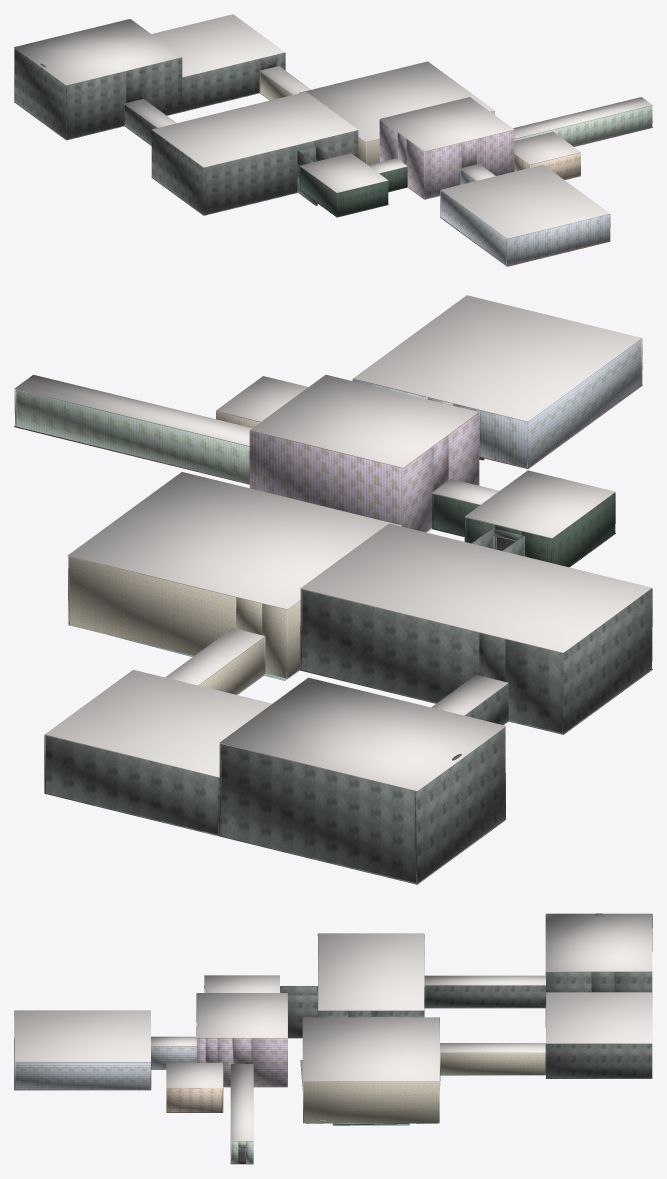
Rendered from Institut_Maquette.glb.
The picture shows the model from 3 angles, top to bottom: view 1: azimuth 30°, elevation 25°; view 2: azimuth 150°, elevation 25°; view 3: azimuth 270°, elevation 25°; orthographic projection. The views are drawn at different scales.
Visible parts, largest first — view 1: Plafonds_plafond, Ventilateur_beton, Machines_beton, Hall_mur_lilas, Ecole_mur_bleu, Citerne_beton, Standard_mur_vert_sombre, Couloir_mur_menthe, SalleDeJeux_mur_creme, Galerie_beton, Escalier_beton, Piscine_carrelage_creme (+1 smaller); view 2: Plafonds_plafond, Machines_beton, Ventilateur_beton, Piscine_carrelage_creme, Hall_mur_lilas, Citerne_beton, Couloir_mur_menthe, Ecole_mur_bleu, Standard_mur_vert_sombre, Douches_carrelage_creme, Galerie_beton; view 3: Plafonds_plafond, Piscine_carrelage_creme, Ecole_mur_bleu, Citerne_beton, Hall_mur_lilas, Galerie_beton, Douches_carrelage_creme, Ventilateur_beton, SalleDeJeux_mur_creme, Escalier_beton, Machines_beton, Couloir_mur_menthe.
Boxes of the visible parts, left/top/right/bottom form: Plafonds_plafond: left=14, top=14, right=652, bottom=238; Ventilateur_beton: left=14, top=48, right=182, bottom=140; Machines_beton: left=151, top=130, right=358, bottom=215; Hall_mur_lilas: left=379, top=119, right=514, bottom=198; Ecole_mur_bleu: left=440, top=169, right=610, bottom=265; Citerne_beton: left=182, top=52, right=285, bottom=111; Standard_mur_vert_sombre: left=299, top=166, right=407, bottom=216; Couloir_mur_menthe: left=514, top=105, right=652, bottom=146; SalleDeJeux_mur_creme: left=514, top=152, right=580, bottom=179; Galerie_beton: left=124, top=104, right=156, bottom=145; Escalier_beton: left=297, top=146, right=331, bottom=205; Piscine_carrelage_creme: left=358, top=111, right=494, bottom=164; Plafonds_plafond: left=14, top=295, right=651, bottom=791; Machines_beton: left=300, top=588, right=652, bottom=734; Ventilateur_beton: left=219, top=727, right=506, bottom=884; Piscine_carrelage_creme: left=68, top=556, right=300, bottom=678; Hall_mur_lilas: left=249, top=413, right=479, bottom=532; Citerne_beton: left=44, top=735, right=219, bottom=836; Couloir_mur_menthe: left=14, top=389, right=249, bottom=483; Ecole_mur_bleu: left=352, top=339, right=642, bottom=467; Standard_mur_vert_sombre: left=432, top=492, right=615, bottom=566; Douches_carrelage_creme: left=199, top=637, right=265, bottom=694; Galerie_beton: left=465, top=684, right=508, bottom=724; Plafonds_plafond: left=14, top=913, right=652, bottom=1141; Piscine_carrelage_creme: left=303, top=1082, right=439, bottom=1123; Ecole_mur_bleu: left=14, top=1047, right=196, bottom=1089; Citerne_beton: left=545, top=1044, right=652, bottom=1078; Hall_mur_lilas: left=196, top=994, right=287, bottom=1086; Galerie_beton: left=424, top=985, right=545, bottom=1008; Douches_carrelage_creme: left=440, top=1053, right=545, bottom=1074; Ventilateur_beton: left=545, top=914, right=652, bottom=1027; SalleDeJeux_mur_creme: left=166, top=1088, right=222, bottom=1112; Escalier_beton: left=280, top=986, right=317, bottom=1038; Machines_beton: left=317, top=934, right=424, bottom=1017; Couloir_mur_menthe: left=230, top=1141, right=253, bottom=1163.
Bounding box in the file's own units: 67.32 × 12.3 × 84.15.
Materials: 110 (91 with a texture image).
